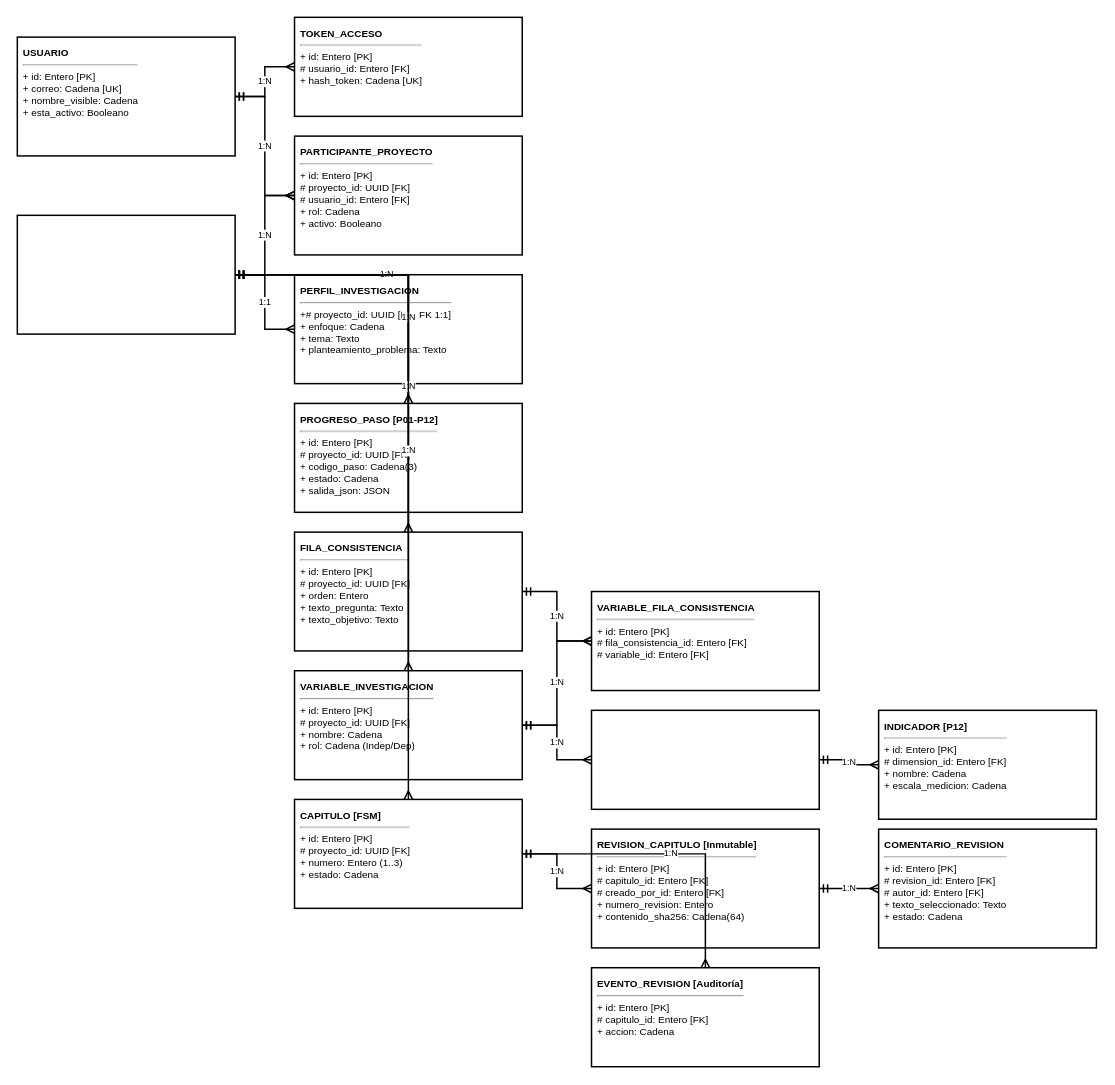
Some shapes in this 1115 by 1085 pixel diagram are drawn without their labels. The box of each missing label's shape, as (x1, y1, x2, y2) in pixels:
DIMENSION_VARIABLE + id: Entero [PK] # variable_id: Entero [FK] + nombre: Cadena: (590, 709, 820, 810)
PROYECTO + id: UUID [PK] + nombre: Cadena + titulo: Cadena + estado: Cadena: (16, 214, 235, 334)
